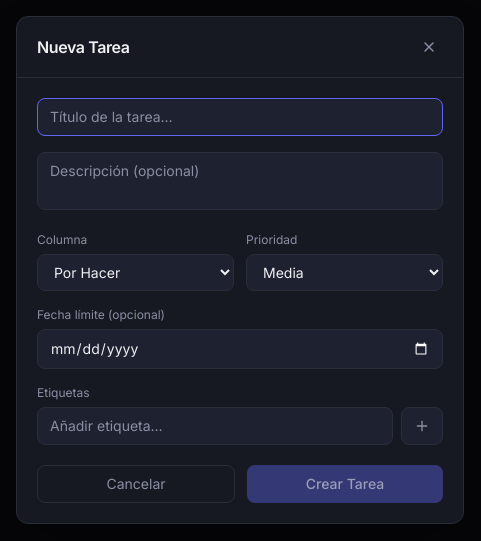
CreateTaskModal — submit › muestra "Creando…" mientras el submit está en curso
In the field with placeholder "Título de la tarea…": (240, 117) [37, 98, 443, 136], type "Tarea"
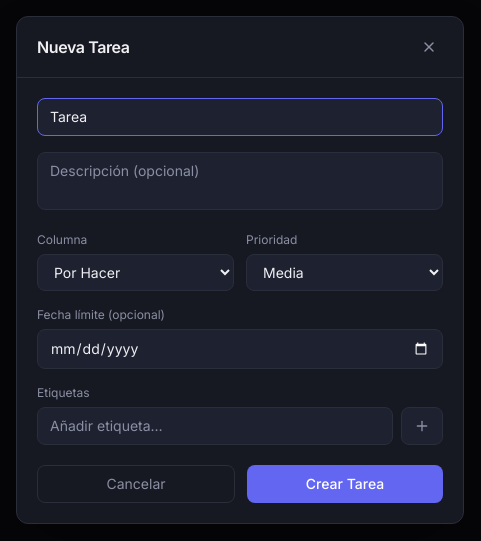
Click the button "Crear Tarea": click(345, 484) [247, 465, 443, 503]
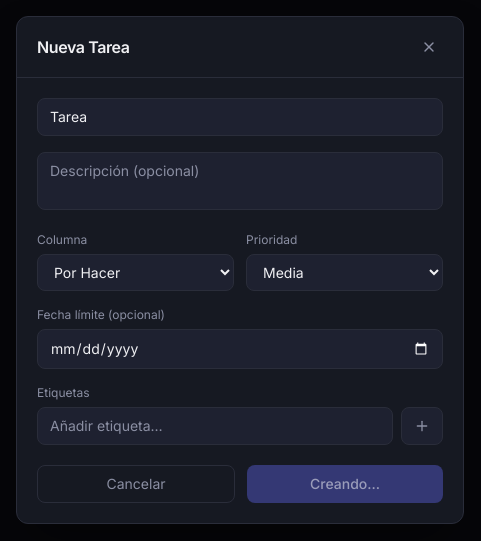
expect the button "Creando…" is shown: met, box [247, 465, 443, 503]
